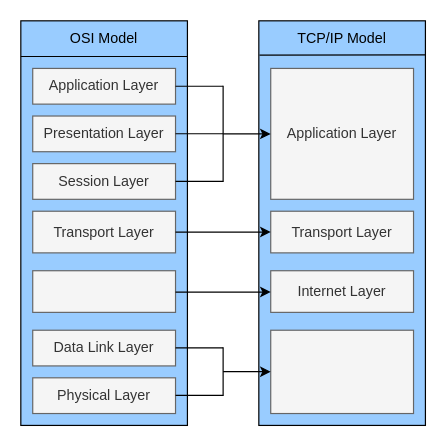
Some shapes in this 447 by 446 pixel diagram are drawn without their labels. Each missing label, with the box of its shape:
Network Access Layer: (270, 329, 414, 414)
Network Layer: (32, 270, 176, 312)
